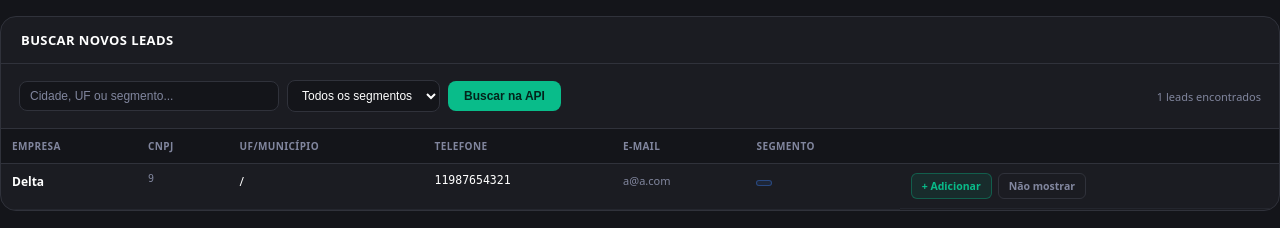
Test case: NewLeadsTable › não quebra o filtro quando município/uf/segmento estão ausentes
In the field with placeholder "Cidade, UF ou segmento...": (149, 96) left=19, top=81, right=279, bottom=111, type "delta"
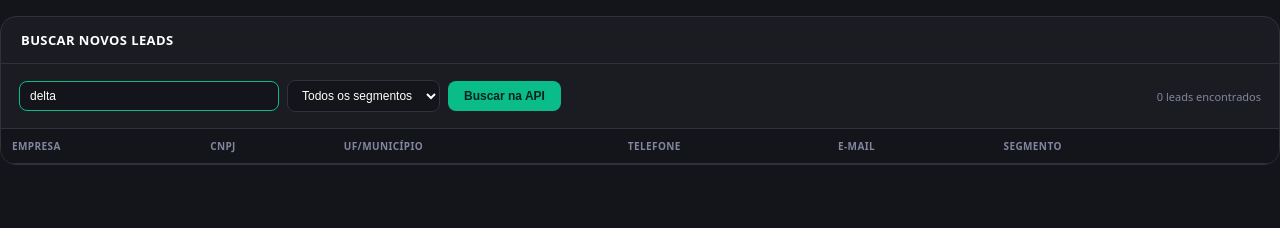
Now the text "0 leads encontrados" is shown, box left=1157, top=88, right=1261, bottom=104
